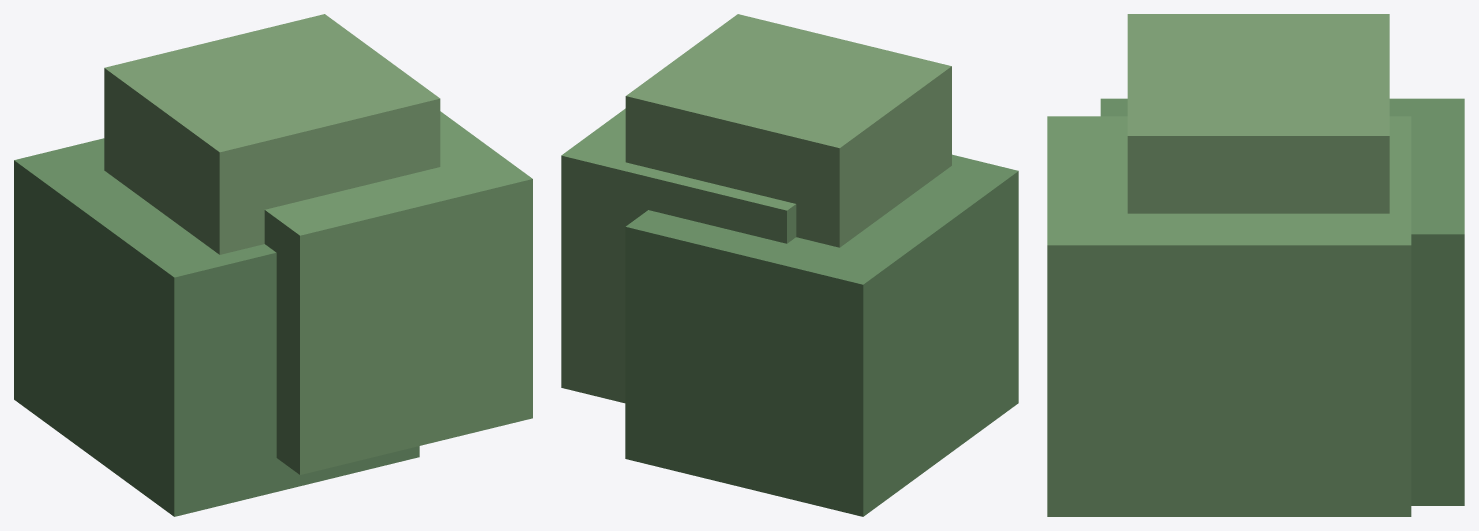
The model's file is bush.gltf.
3 renders of one model, left to right at view 1: azimuth 30°, elevation 25°; view 2: azimuth 150°, elevation 25°; view 3: azimuth 270°, elevation 25°, orthographic. The views are drawn at different scales.
Visible parts, largest first — view 1: bush; view 2: bush; view 3: bush.
Boxes of the visible parts, left/top/right/bottom form: bush: left=14, top=14, right=532, bottom=516; bush: left=561, top=14, right=1018, bottom=516; bush: left=1047, top=14, right=1464, bottom=516.
Bounding box in the file's own units: 0.82 × 0.8 × 0.78.
